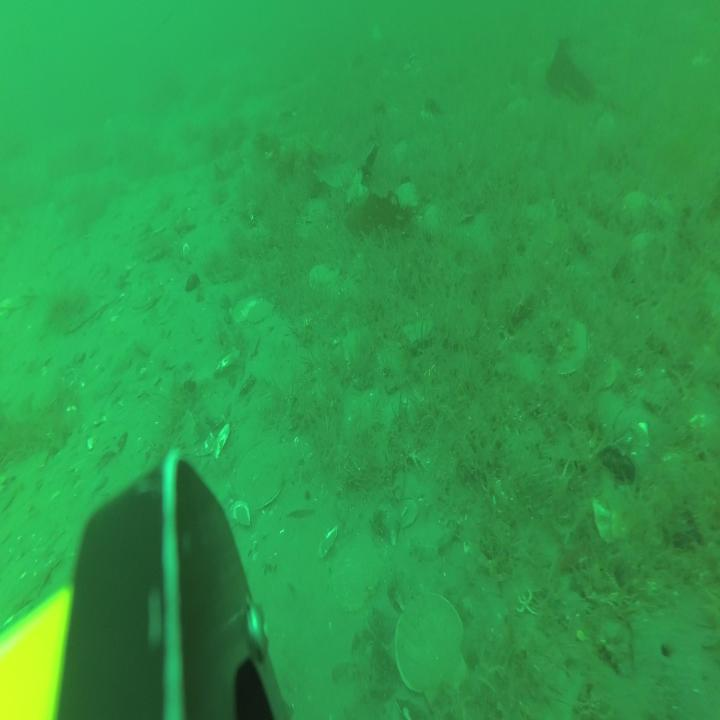scallop: (396, 590, 468, 712), (334, 532, 384, 612), (235, 439, 285, 512), (554, 318, 588, 376), (233, 296, 273, 327), (130, 280, 164, 313), (310, 261, 340, 293), (392, 180, 419, 210)
